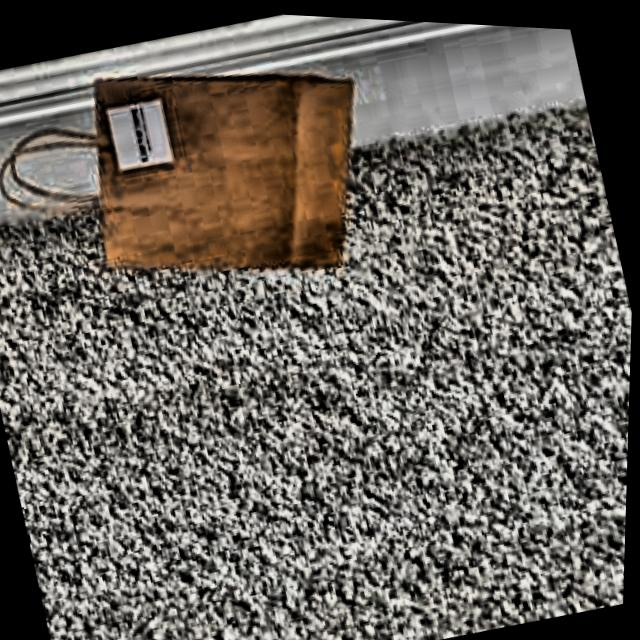Paper-bag: (0, 5, 404, 359)
